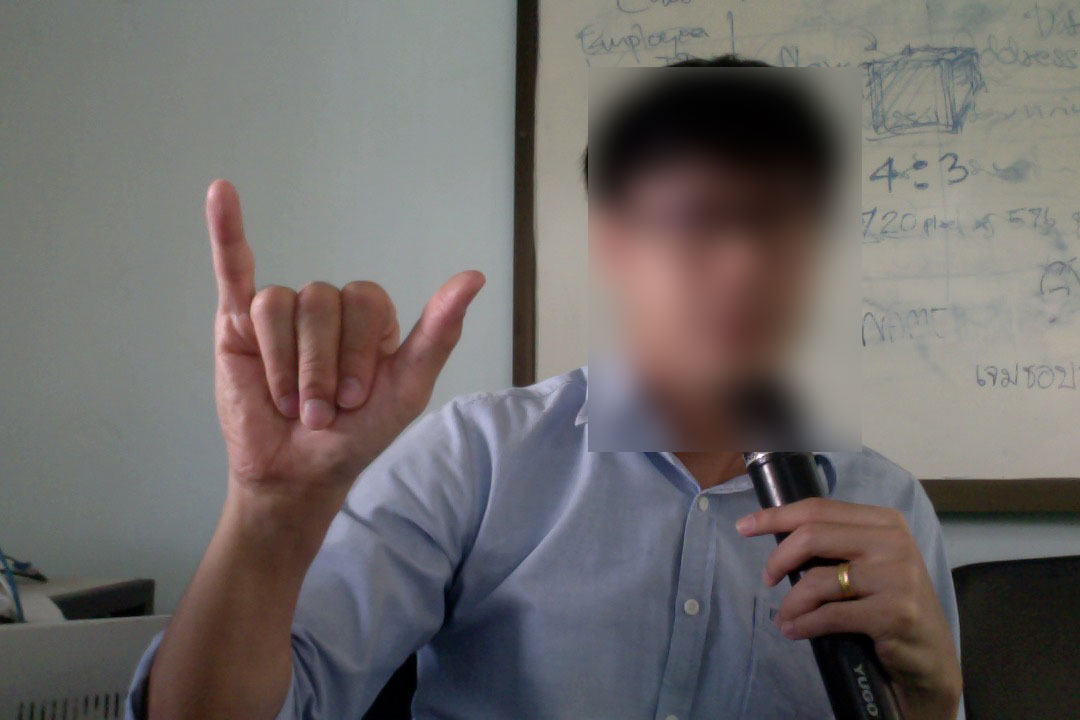yor: (189, 172, 493, 507)
